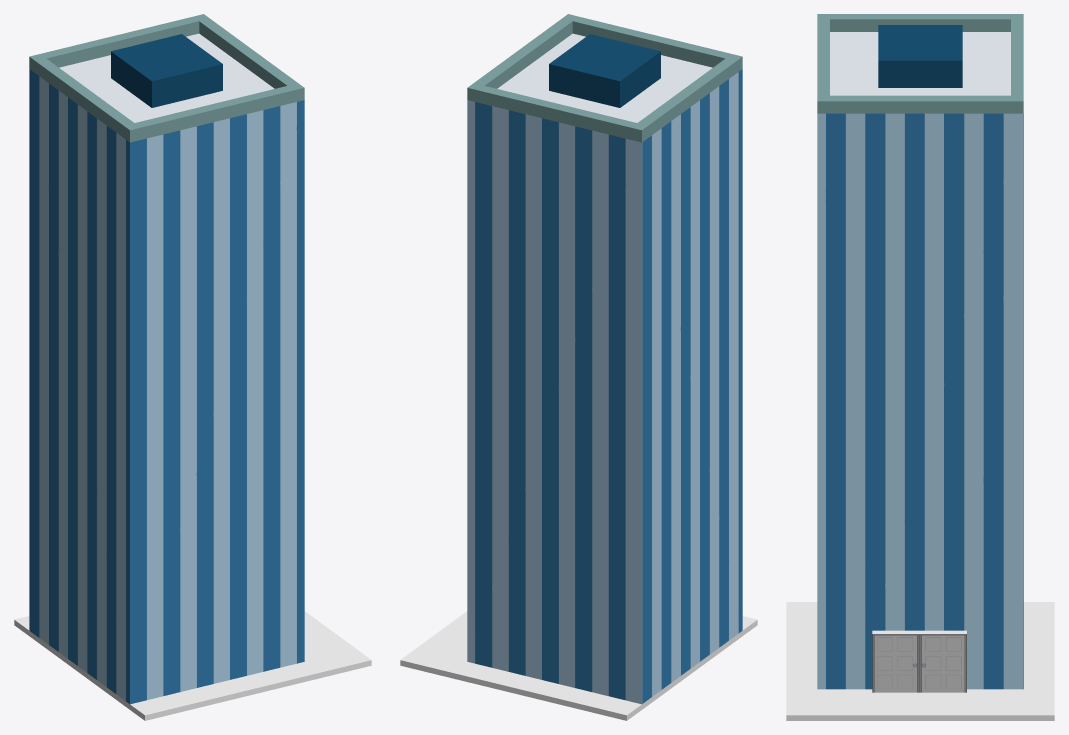
Rendered from buildings_3.dae.
3 views of the same model, side by side, from view 1: azimuth 30°, elevation 25°; view 2: azimuth 150°, elevation 25°; view 3: azimuth 270°, elevation 25° (orthographic). The views are drawn at different scales.
Visible parts, largest first — view 1: group_0 (×6); view 2: group_0 (×6); view 3: group_0 (×7).
Boxes of the visible parts, x1=… form: group_0 (×6): x1=14, y1=14, x2=371, y2=720; group_0 (×6): x1=400, y1=14, x2=757, y2=720; group_0 (×7): x1=786, y1=14, x2=1054, y2=720.
Bounding box in the file's own units: 134 × 134 × 335.
Materials: 6 (4 with a texture image).
